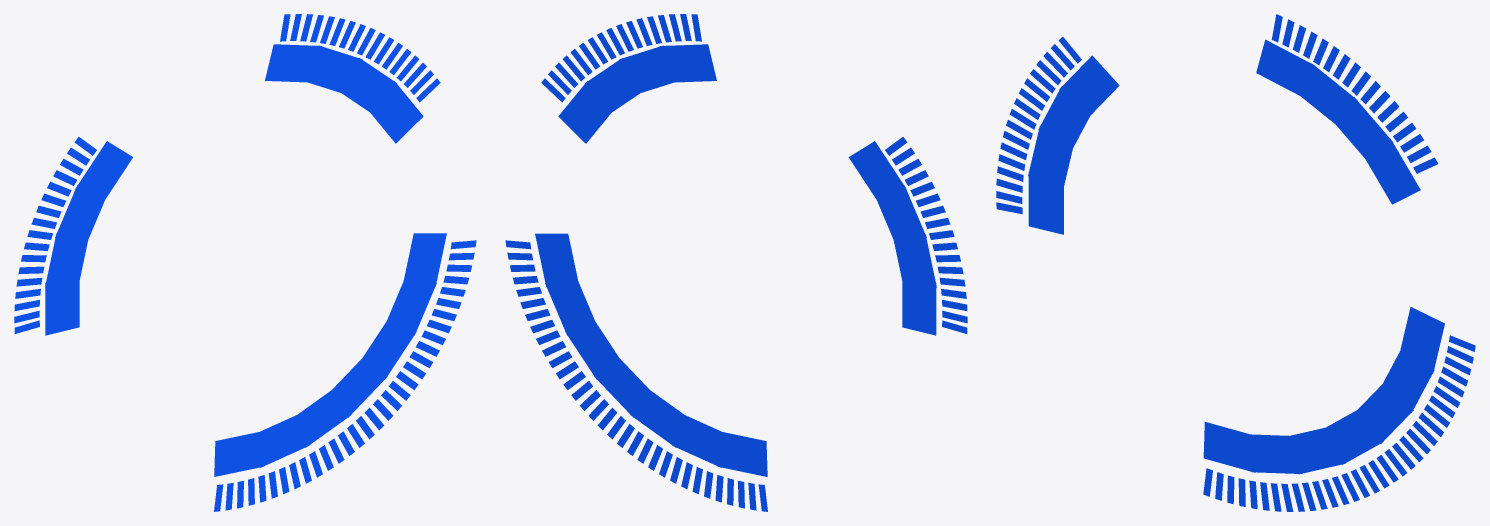
The model's file is blue_large.glb.
3 renders of one model, left to right at view 1: azimuth 30°, elevation 25°; view 2: azimuth 150°, elevation 25°; view 3: azimuth 330°, elevation 25°, orthographic. The views are drawn at different scales.
Visible parts, largest first — view 1: Yoyo02_baked_25; view 2: Yoyo02_baked_25; view 3: Yoyo02_baked_25.
Part boxes in pixels (x1,y1,x2,y2): Yoyo02_baked_25: (14, 14, 476, 511); Yoyo02_baked_25: (505, 14, 967, 511); Yoyo02_baked_25: (996, 14, 1475, 511).
Bounding box in the file's own units: 5.18 × 5.17 × 0.000856.
